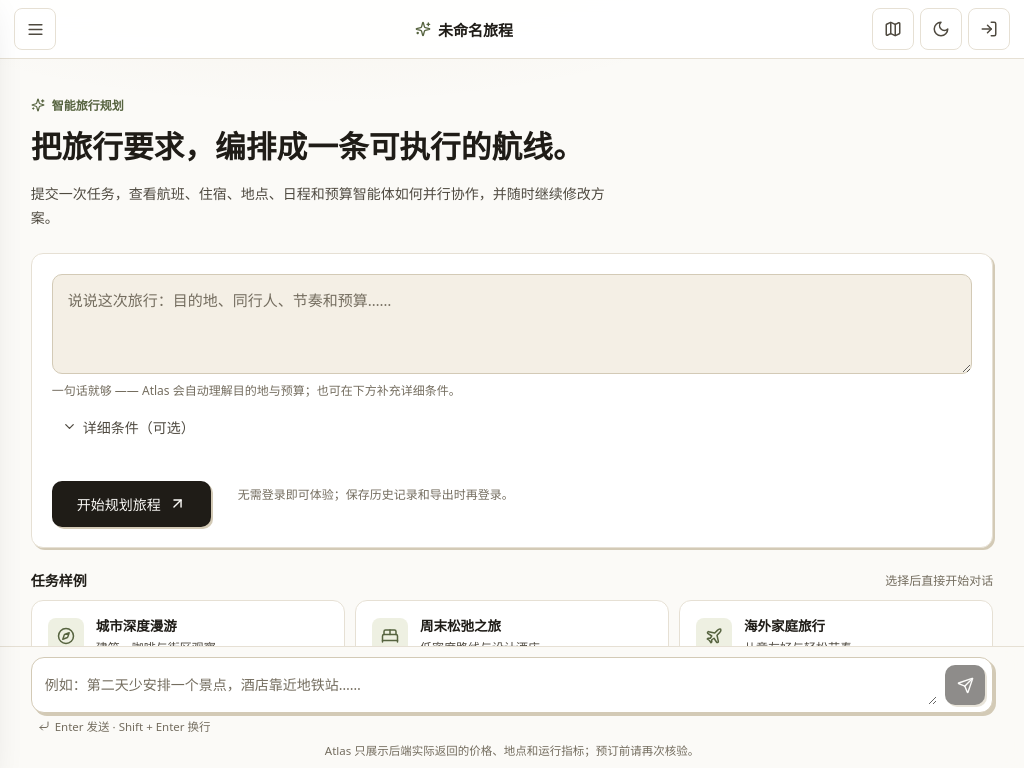
Atlas page integration › warns instead of silently switching when the reply destination conflicts with the brief
This screenshot has width=1024, height=768.
// 默认会话（表单未被手动改过）在 composer 里输入"想去广州"
Type "想去广州" into the text box named "补充或修改旅行需求" at [488, 685], box [39, 665, 937, 705]
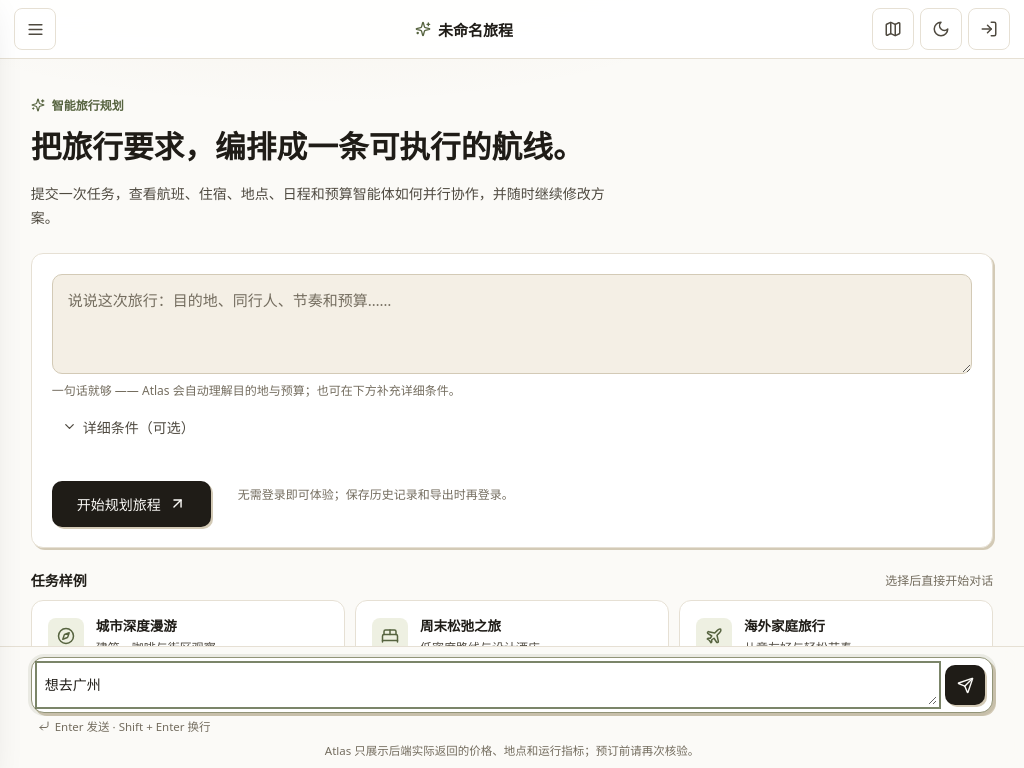
Click the button named "发送旅行要求" at [965, 685], box [945, 665, 985, 705]
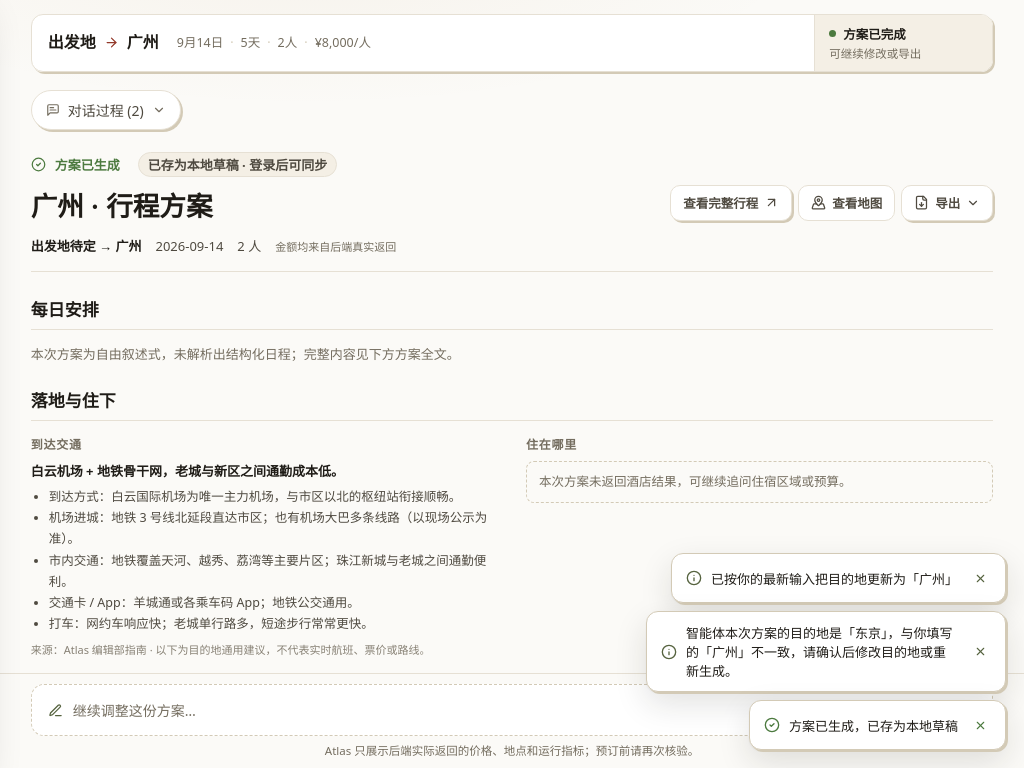
Check: the heading "广州 · 行程方案" is shown, box [31, 185, 213, 224]
Check: the text "智能体本次方案的目的地是「东京」，与你填写的「广州」不一致，请确认后修改目的地或重新生成。" is shown, box [686, 623, 958, 680]
